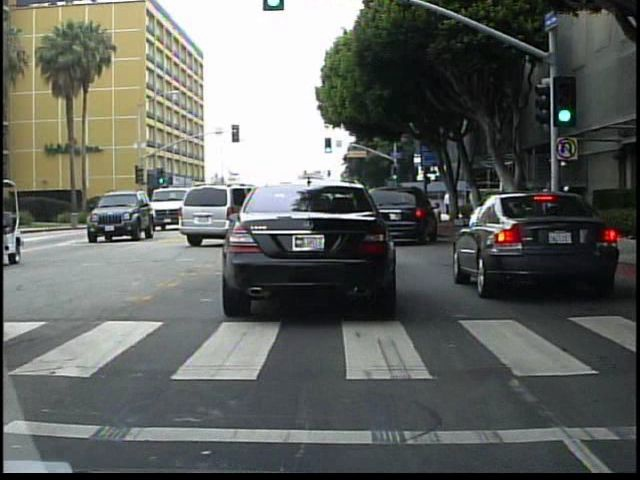person: (548, 175, 567, 233), (441, 186, 455, 218)
